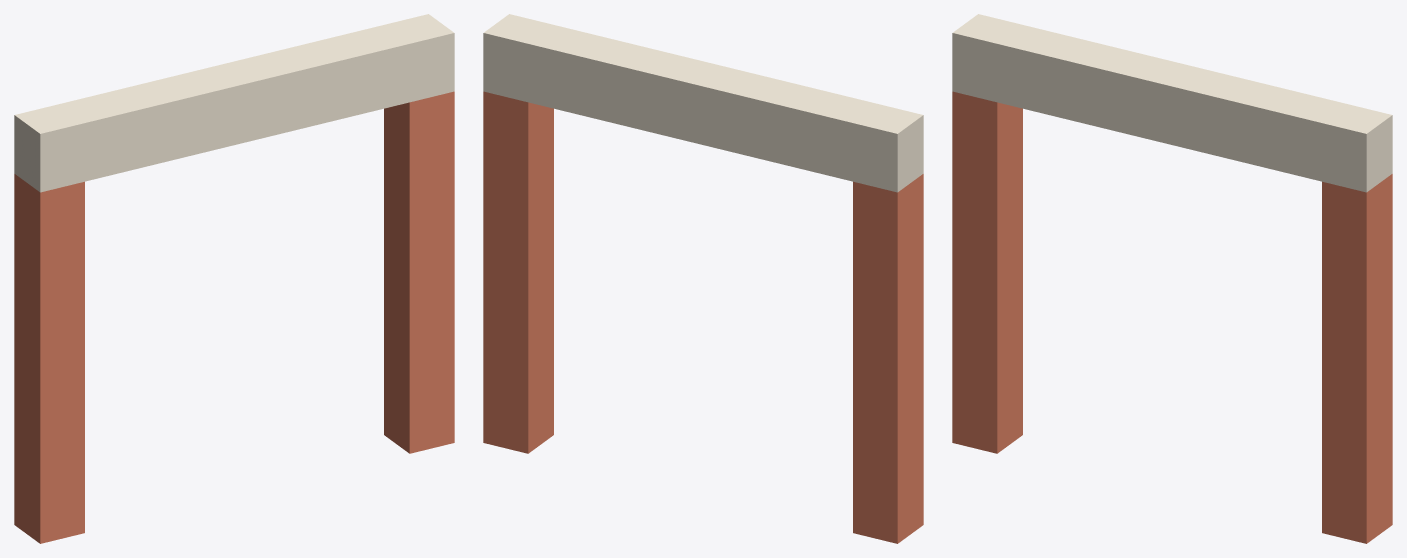
Rendered from prop_gapura.fbx.
3 renders of one model, left to right at view 1: azimuth 30°, elevation 25°; view 2: azimuth 150°, elevation 25°; view 3: azimuth 330°, elevation 25°, orthographic.
Visible parts, largest first — view 1: prop_gapura; view 2: prop_gapura; view 3: prop_gapura.
Part boxes in pixels (left/top/right/bottom): prop_gapura: left=14, top=14, right=454, bottom=543; prop_gapura: left=483, top=14, right=923, bottom=543; prop_gapura: left=952, top=14, right=1392, bottom=543.
Size of the model in its own units: 370 by 350 by 40.
Materials: 1 (1 with a texture image).
